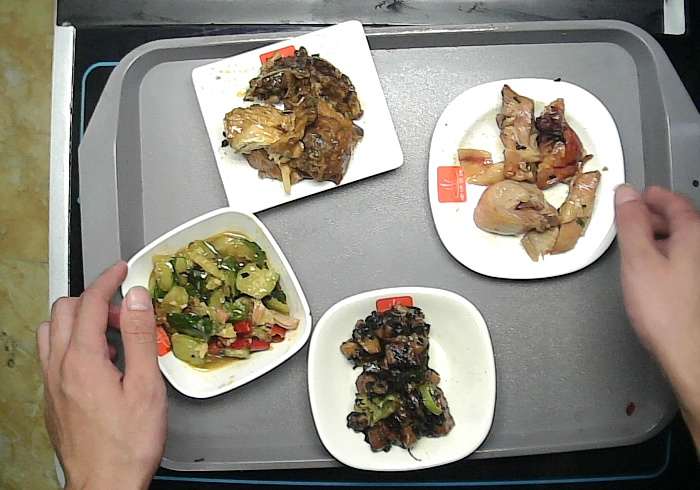SHKJ-Bai_Se_Cai_Die: (308, 286, 497, 471)
SHKJ-Bai_Se_Si_Fang_Cai_Die: (427, 77, 625, 283)
SHKJ-Bai_Se_Xiao_Fang_Die: (122, 208, 312, 398)
SHKJ-Si_Fang_Min: (192, 20, 405, 216)
